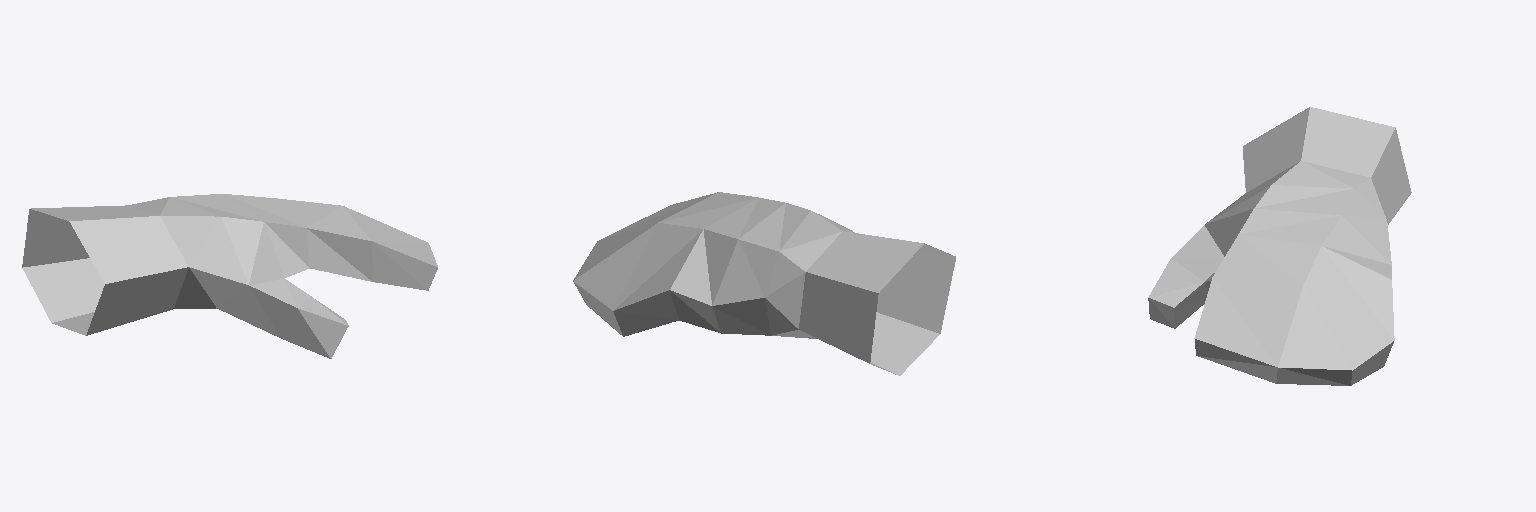
The model's file is LAS_1_Hand_L.obj.
3 renders of one model, left to right at view 1: azimuth 30°, elevation 25°; view 2: azimuth 150°, elevation 25°; view 3: azimuth 270°, elevation 25°, orthographic.
Visible parts, largest first — view 1: Knight.020_proxy741.obj.018; view 2: Knight.020_proxy741.obj.018; view 3: Knight.020_proxy741.obj.018.
Boxes of the visible parts, box(x1,y1,x2,y2) form: Knight.020_proxy741.obj.018: box(22, 194, 437, 358); Knight.020_proxy741.obj.018: box(573, 192, 955, 375); Knight.020_proxy741.obj.018: box(1148, 107, 1411, 385).
Bounding box in the file's own units: 0.2894 × 0.1056 × 0.1924.